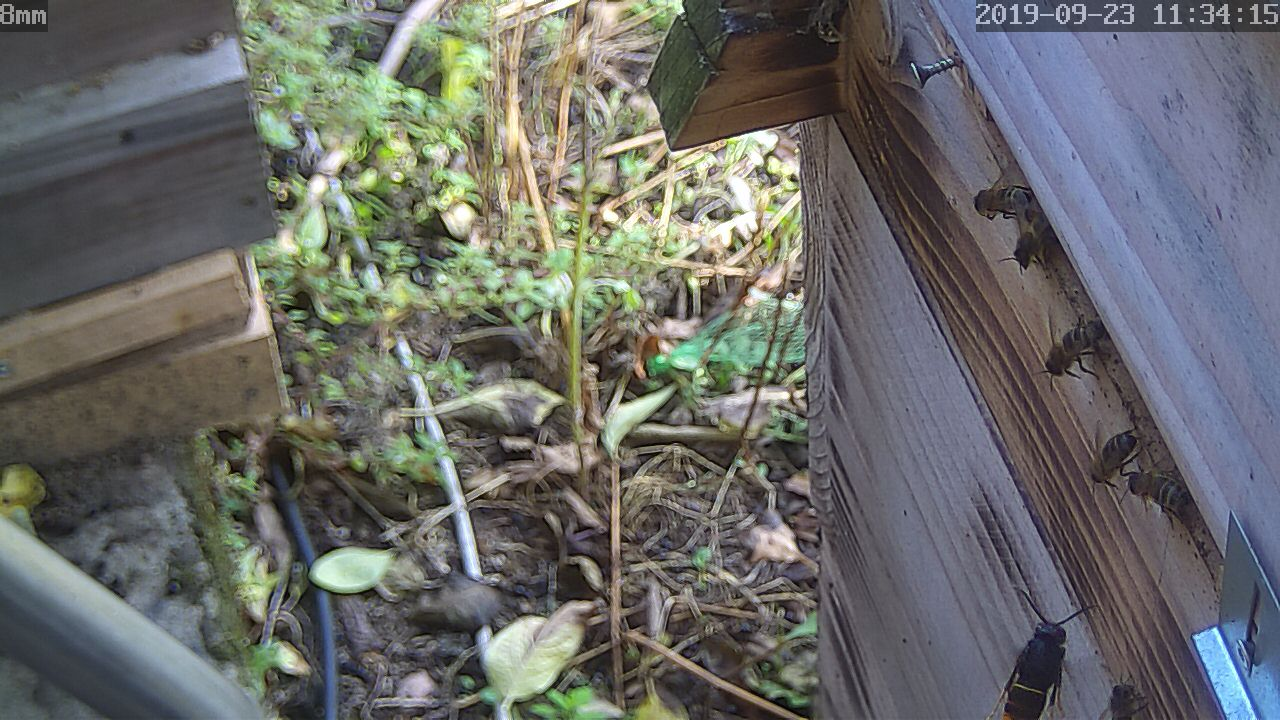bee: (1118, 455, 1193, 517), (1078, 426, 1139, 489), (1034, 324, 1094, 382), (997, 219, 1061, 272), (969, 174, 1032, 222), (1101, 672, 1150, 720)
hornet: (975, 615, 1088, 720)
